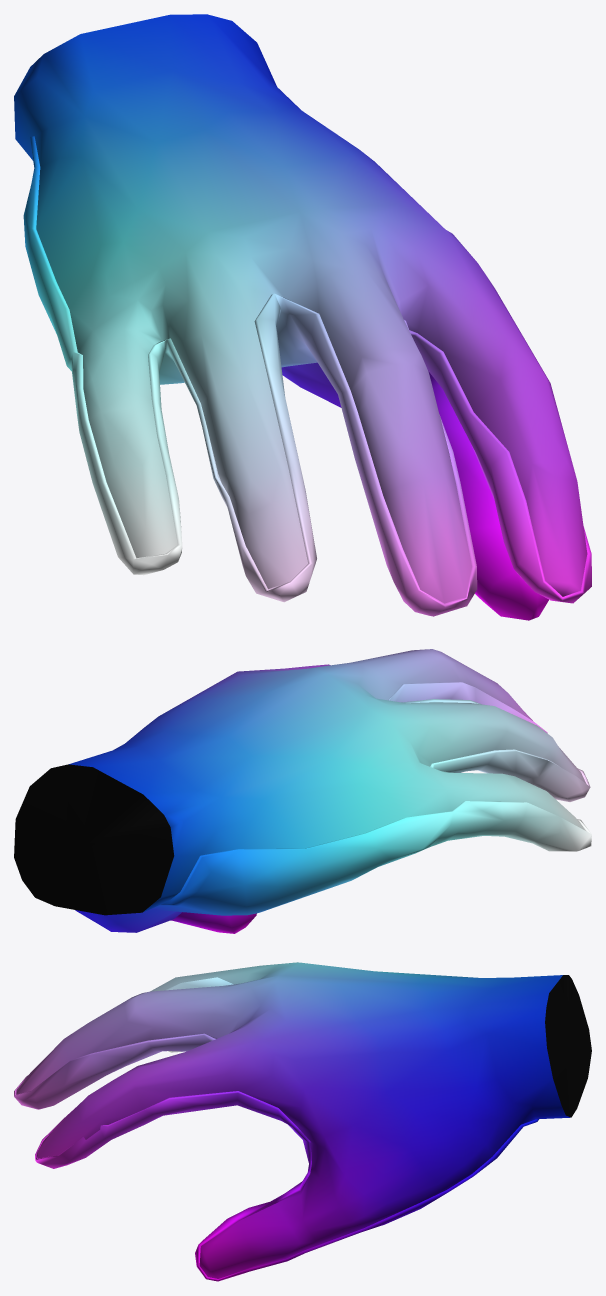
The model's file is combineRight.fbx.
The picture shows the model from 3 angles, top to bottom: view 1: azimuth 30°, elevation 25°; view 2: azimuth 150°, elevation 25°; view 3: azimuth 270°, elevation 25°; orthographic projection. The views are drawn at different scales.
Visible parts, largest first — view 1: RightHand, RightHandPPaint; view 2: RightHand, RightHandPPaint; view 3: RightHand, RightHandPPaint.
Part boxes in pixels (x1,y1,x2,y2): RightHand: (14, 14, 587, 603); RightHandPPaint: (23, 136, 591, 620); RightHand: (14, 649, 586, 915); RightHandPPaint: (75, 682, 591, 933); RightHand: (16, 962, 591, 1278); RightHandPPaint: (14, 977, 539, 1281).
Bounding box in the file's own units: 12.2 × 9.92 × 19.74.
